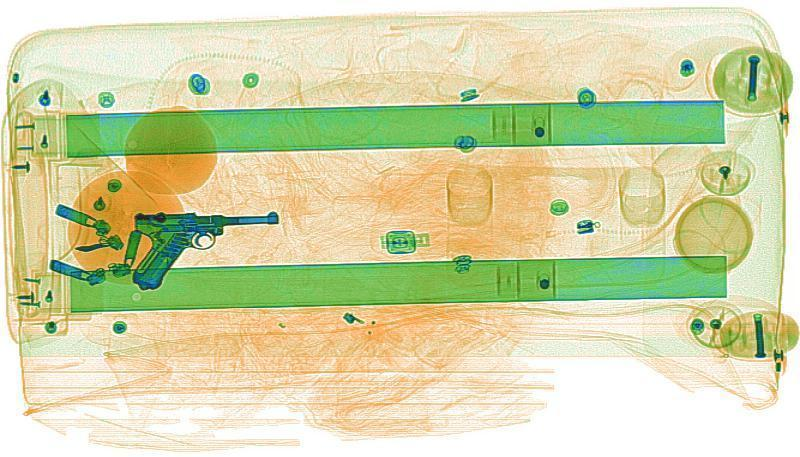Gun: (113, 201, 303, 291)
